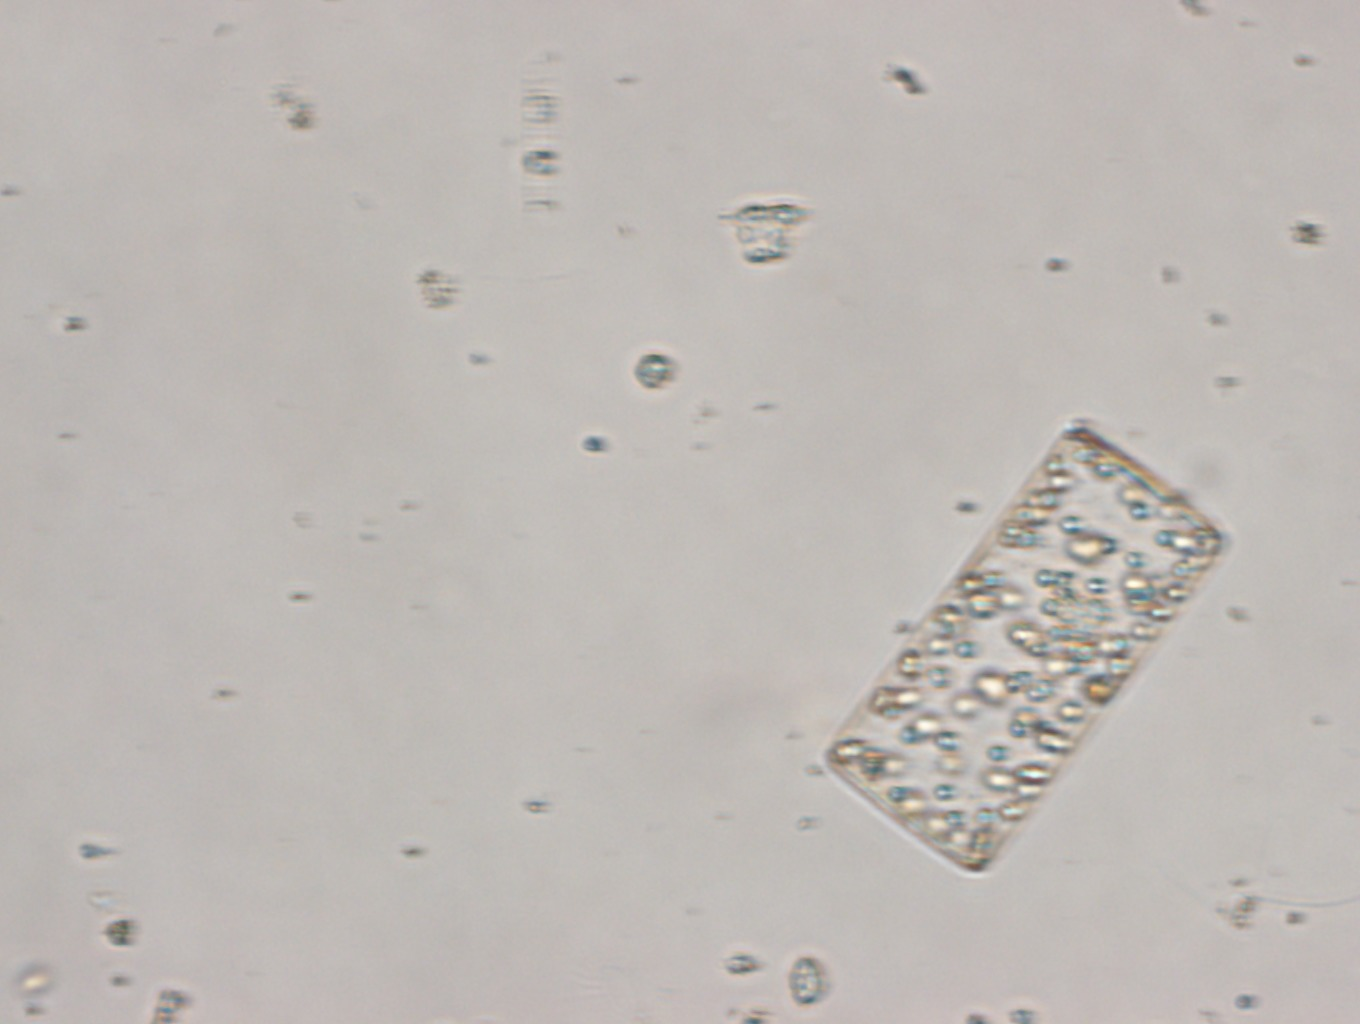guinardia flaccida: (812, 395, 1232, 881)
